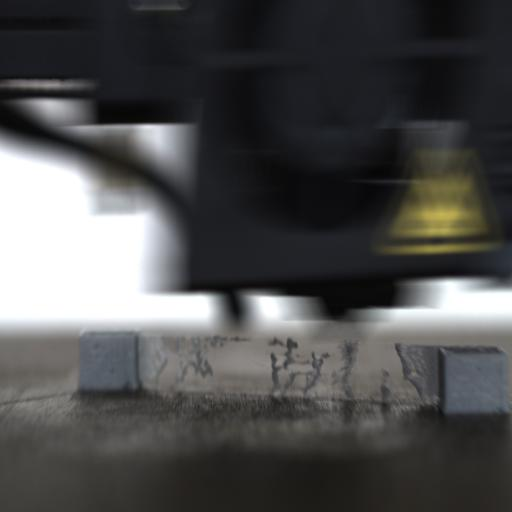stringing: (268, 334, 324, 398), (396, 342, 441, 408), (328, 337, 365, 403), (170, 336, 214, 386), (137, 335, 169, 392), (204, 334, 250, 346)
